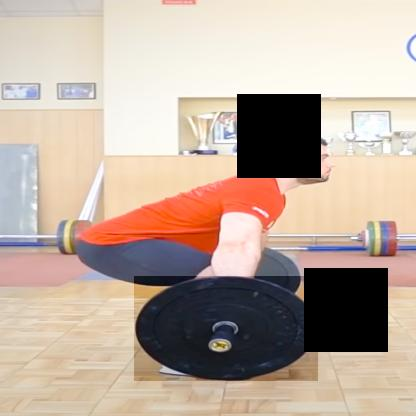barbell: (135, 277, 319, 382)
